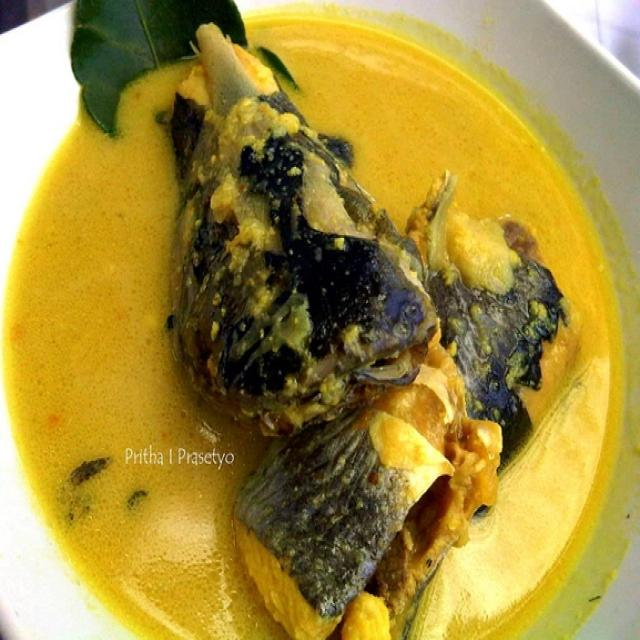熟制海鲜: (10, 15, 616, 618)
